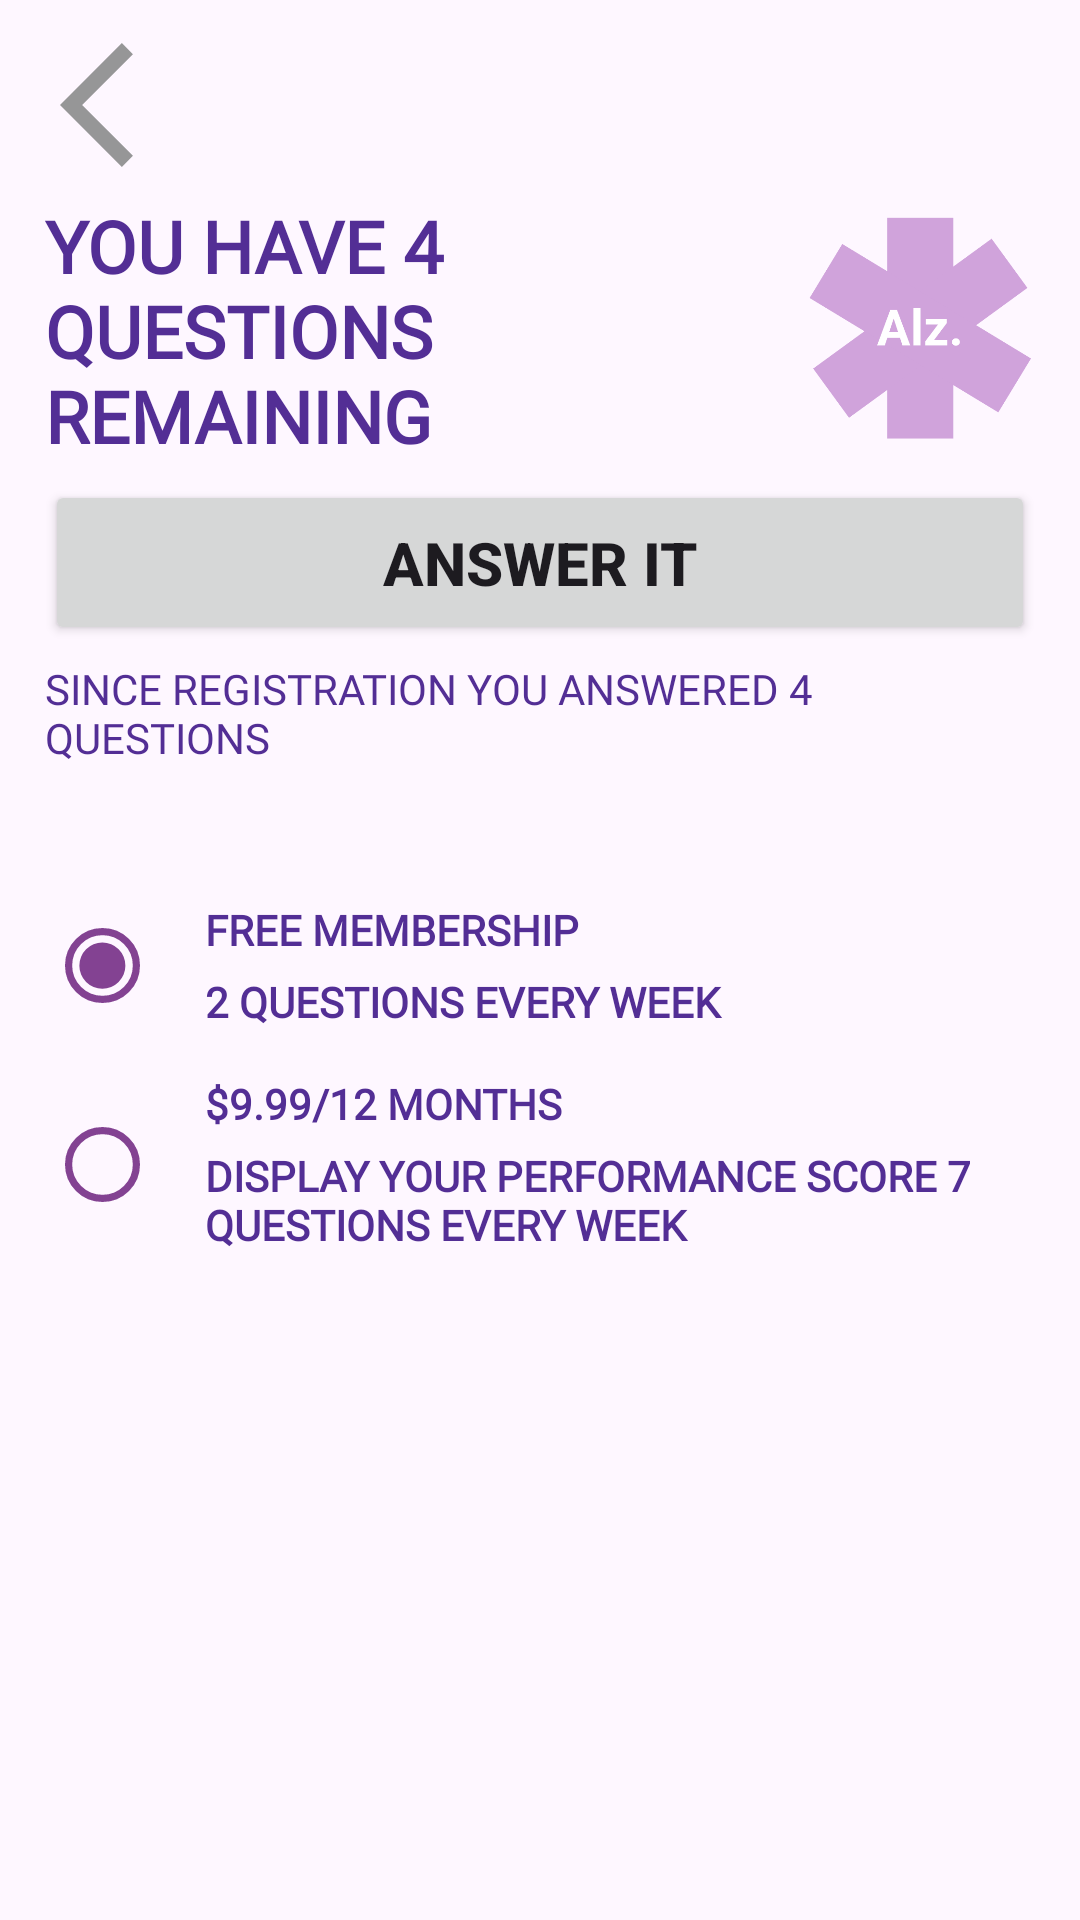

Icon click points for this 1080×1920 phone screenshot, format (x=x, y=y):
arrow back: (x=96, y=105)
